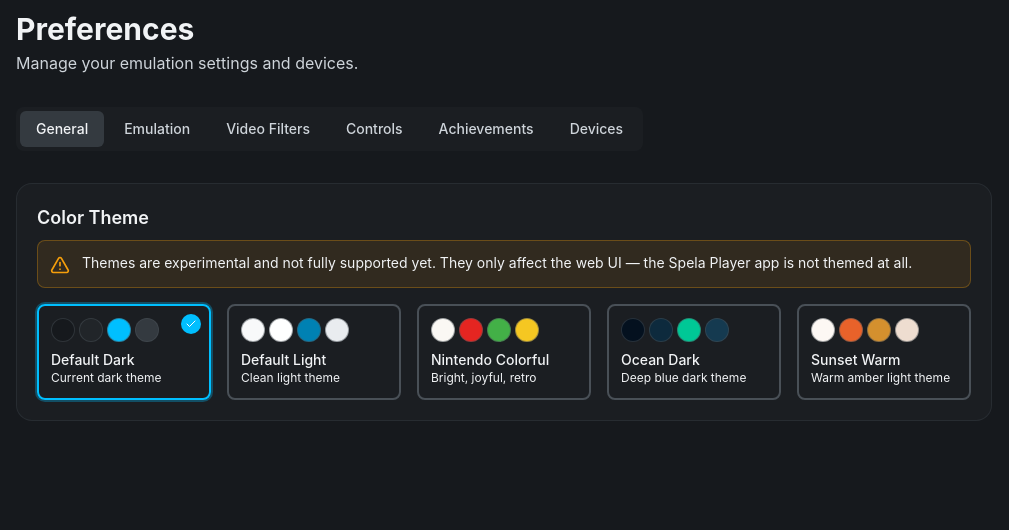
Test: PreferencesPage › renders emulation settings when Emulation tab is clicked
Click the tab "Emulation" at (157, 129), box [108,111,206,147]
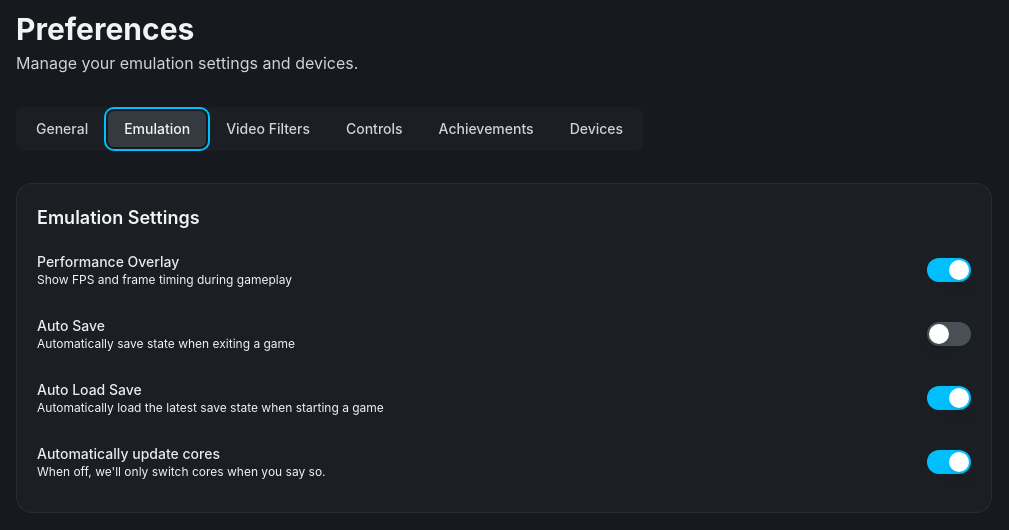
expect the heading "Emulation Settings" is shown: met, box [37,207,200,228]
